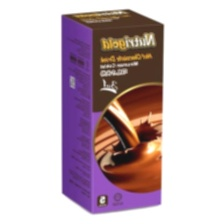carton: (52, 6, 167, 215)
